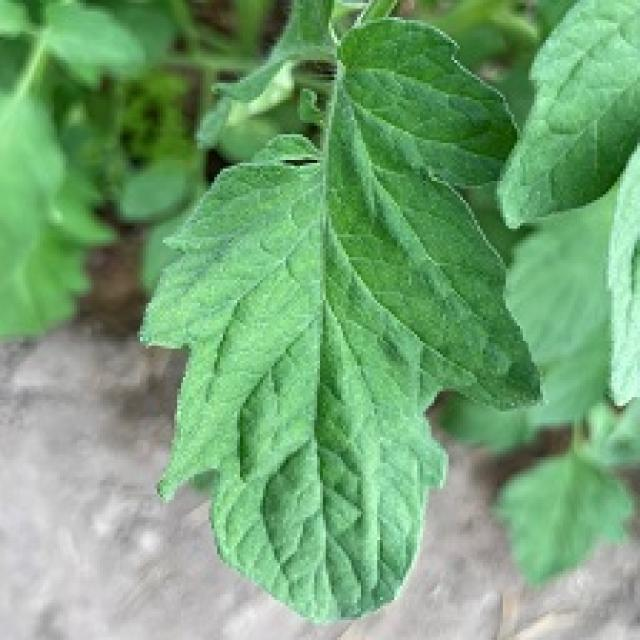Healthy: (37, 0, 640, 640)
